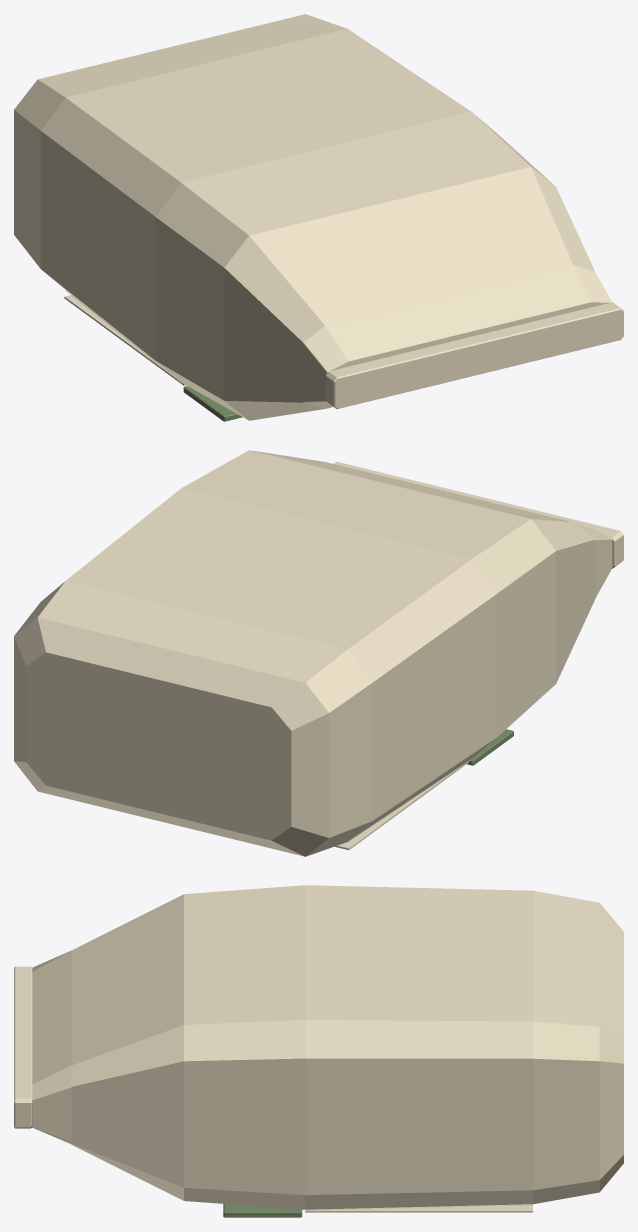
Rendered from pearl_barley.glb.
The picture shows the model from 3 angles, top to bottom: view 1: azimuth 30°, elevation 25°; view 2: azimuth 150°, elevation 25°; view 3: azimuth 270°, elevation 25°; orthographic projection. The views are drawn at different scales.
Parts seen in each view (by area): view 1: pearl_barley; view 2: pearl_barley; view 3: pearl_barley.
Part boxes in pixels (<box>): pearl_barley: <box>14,14,623,421</box>; pearl_barley: <box>14,450,623,856</box>; pearl_barley: <box>14,885,623,1217</box>.
Size of the model in its own units: 0.1236 by 0.0721 by 0.201.
